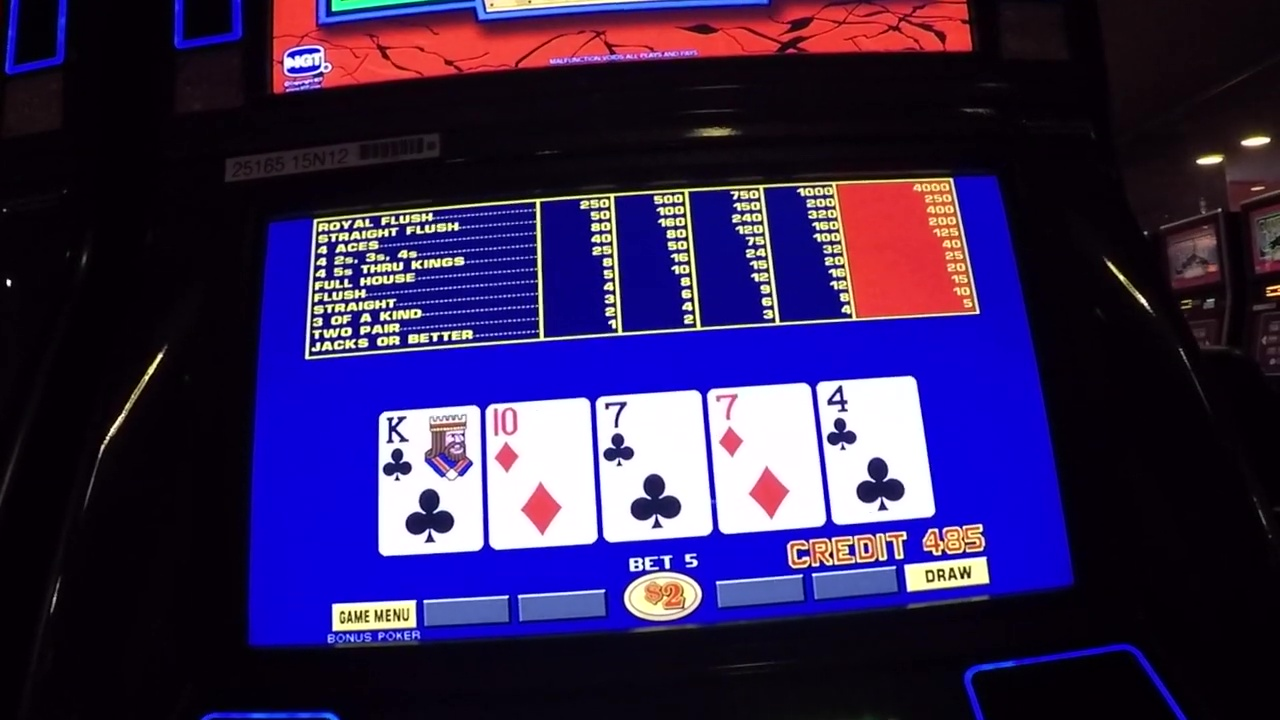C4: (826, 386, 917, 451)
C7: (600, 400, 701, 471)
CK: (381, 416, 480, 484)
D7: (714, 388, 813, 462)
DT: (490, 406, 589, 477)
